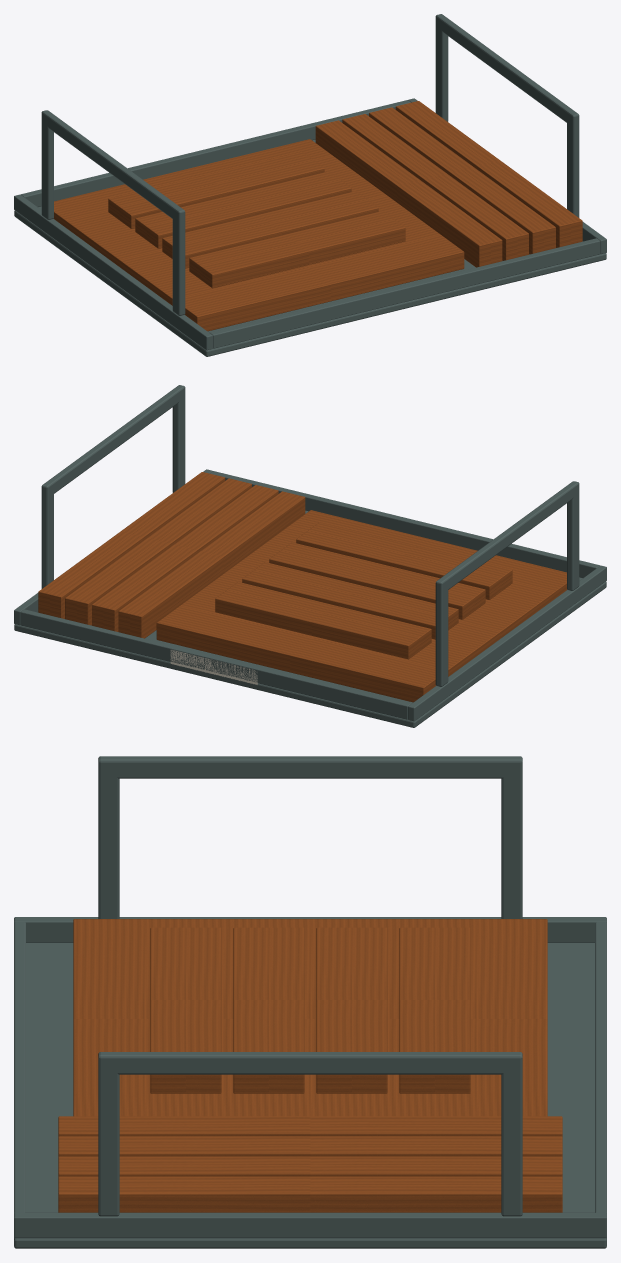
File: Hocker01_Kit.fbx
The picture shows the model from 3 angles, top to bottom: view 1: azimuth 30°, elevation 25°; view 2: azimuth 150°, elevation 25°; view 3: azimuth 270°, elevation 25°; orthographic projection. The views are drawn at different scales.
Visible parts, largest first — view 1: Seat__WoodRaw.020, Rail_4__WoodRaw.009, Leg_1__WoodRaw.020, CarrierRimX__Carrier.018, Rail_2__WoodRaw.009, Rail_3__WoodRaw.009, Rail_1__WoodRaw.009, CarrierFloor__Carrier.009, Leg_3__WoodRaw.019, Leg_4__WoodRaw.019, Leg_2__WoodRaw.019, CarrierRimX__Carrier.019 (+7 smaller); view 2: Seat__WoodRaw.020, Rail_1__WoodRaw.009, Leg_1__WoodRaw.020, CarrierRimX__Carrier.019, Rail_3__WoodRaw.009, Rail_2__WoodRaw.009, Rail_4__WoodRaw.009, Leg_3__WoodRaw.019, Leg_4__WoodRaw.019, Leg_2__WoodRaw.019, CarrierFloor__Carrier.009, CarrierRimX__Carrier.018 (+8 smaller); view 3: Seat__WoodRaw.020, CarrierFloor__Carrier.009, Leg_4__WoodRaw.019, CarrierRimY__Carrier.019, Rail_1__WoodRaw.009, Rail_2__WoodRaw.009, Rail_3__WoodRaw.009, Rail_4__WoodRaw.009, Leg_3__WoodRaw.019, Leg_1__WoodRaw.020, Leg_2__WoodRaw.019, HandleTop__Carrier.018 (+8 smaller).
Boxes of the visible parts, x1,y1,x2,y2 form: Seat__WoodRaw.020: (53, 139, 464, 331); Rail_4__WoodRaw.009: (189, 211, 405, 288); Leg_1__WoodRaw.020: (315, 120, 502, 267); CarrierRimX__Carrier.018: (210, 238, 600, 348); Rail_2__WoodRaw.009: (135, 171, 351, 248); Rail_3__WoodRaw.009: (162, 191, 378, 268); Rail_1__WoodRaw.009: (108, 151, 324, 228); CarrierFloor__Carrier.009: (14, 139, 606, 356); Leg_3__WoodRaw.019: (369, 107, 555, 254); Leg_4__WoodRaw.019: (395, 101, 582, 247); Leg_2__WoodRaw.019: (342, 114, 528, 260); CarrierRimX__Carrier.019: (20, 100, 410, 206); Seat__WoodRaw.020: (156, 510, 567, 702); Rail_1__WoodRaw.009: (215, 582, 431, 659); Leg_1__WoodRaw.020: (118, 491, 305, 638); CarrierRimX__Carrier.019: (20, 609, 410, 719); Rail_3__WoodRaw.009: (269, 542, 485, 619); Rail_2__WoodRaw.009: (242, 562, 458, 639); Rail_4__WoodRaw.009: (296, 522, 512, 599); Leg_3__WoodRaw.019: (65, 478, 251, 625); Leg_4__WoodRaw.019: (38, 472, 225, 618); Leg_2__WoodRaw.019: (92, 485, 278, 631); CarrierFloor__Carrier.009: (14, 510, 606, 727); CarrierRimX__Carrier.018: (210, 471, 600, 577); Seat__WoodRaw.020: (73, 919, 547, 1116); CarrierFloor__Carrier.009: (14, 942, 606, 1248); Leg_4__WoodRaw.019: (58, 1176, 562, 1212); CarrierRimY__Carrier.019: (14, 1212, 606, 1238); Rail_1__WoodRaw.009: (399, 927, 470, 1093); Rail_2__WoodRaw.009: (316, 927, 387, 1093); Rail_3__WoodRaw.009: (233, 927, 304, 1093); Rail_4__WoodRaw.009: (150, 927, 221, 1093); Leg_3__WoodRaw.019: (58, 1156, 562, 1176); Leg_1__WoodRaw.020: (58, 1116, 562, 1136); Leg_2__WoodRaw.019: (58, 1136, 562, 1156); HandleTop__Carrier.018: (105, 756, 515, 778).
Bounding box in the file's own units: 60 × 18 × 50.
Materials: 3 (1 with a texture image).
